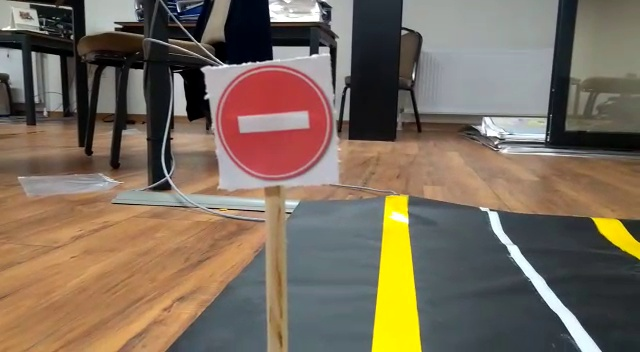park_yapilmaz: (206, 64, 336, 183)
